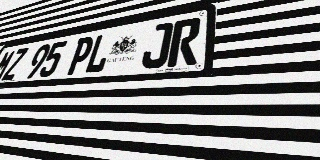5: (37, 40, 68, 78)
9: (23, 43, 53, 79)
J: (140, 22, 174, 69)
L: (83, 32, 115, 74)
M: (0, 49, 17, 82)
P: (64, 35, 96, 75)
R: (167, 17, 202, 67)
Z: (1, 47, 29, 81)
